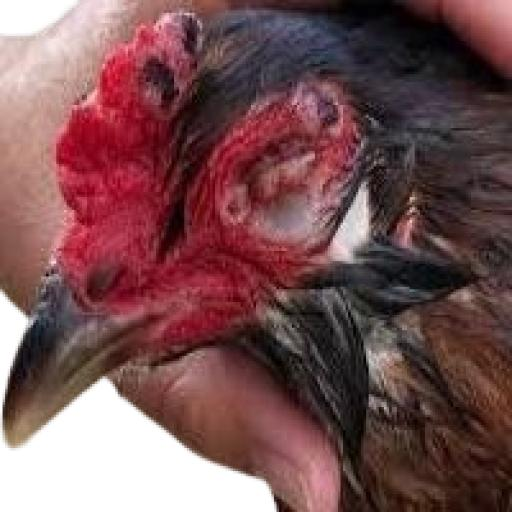disease: (156, 82, 394, 266), (97, 0, 220, 127), (259, 40, 365, 154)
